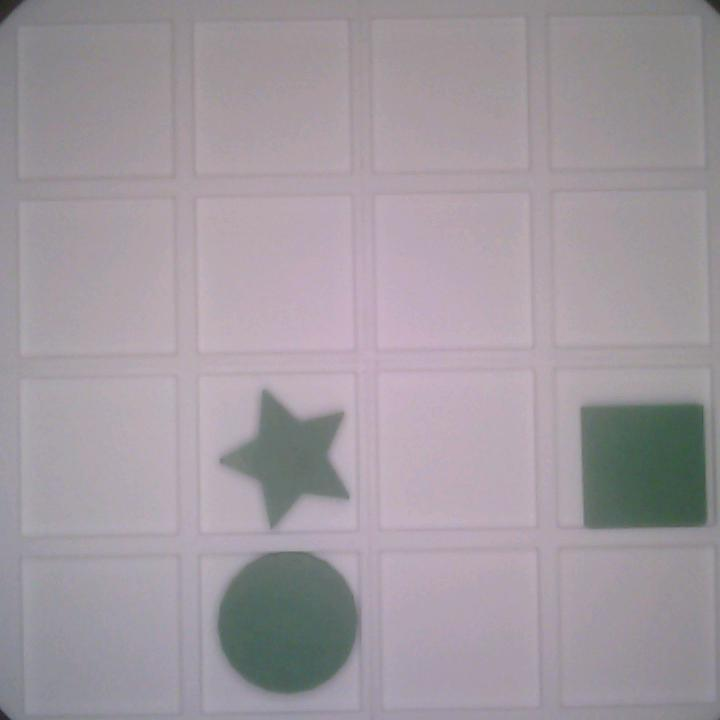Green circle: (208, 548, 357, 699)
Green square: (572, 394, 712, 536)
Green star: (211, 388, 356, 529)
